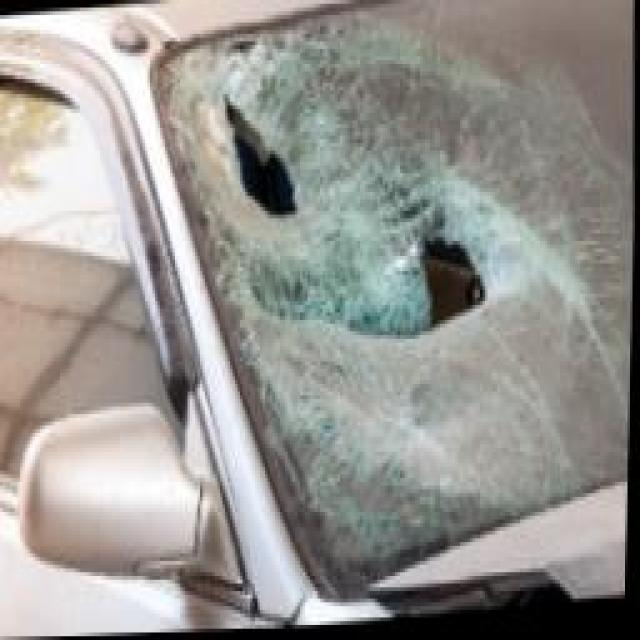Windshield: (172, 0, 632, 576)
